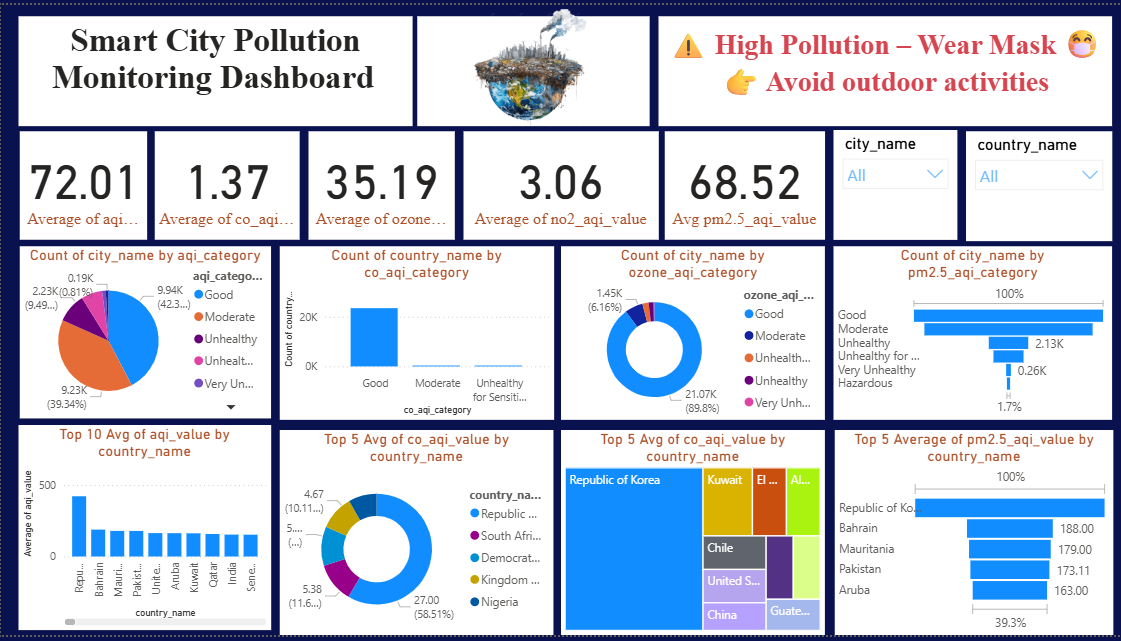

What the dashboard file says about the page in this screenshot:
{"tool":"powerbi","page":{"name":"Page 1","canvas":[1280,720],"ordinal":0},"visuals":[{"type":"card","fields":{"Values":["Avg(air_pollution_data.aqi_value)"]},"box":[21.4,144.3,145.7,124.3],"z":0},{"type":"slicer","fields":{"Values":["air_pollution_data.city_name"]},"box":[951.4,142.9,141.4,125.7],"z":1000},{"type":"clusteredColumnChart","fields":{"Y":["CountNonNull(air_pollution_data.country_name)"],"Category":["air_pollution_data.co_aqi_category"]},"box":[318.3,275,313.3,198.3],"z":2000},{"type":"textbox","box":[20,12.9,450,125.7],"z":3000},{"type":"pieChart","fields":{"Category":["air_pollution_data.aqi_category"],"Y":["CountNonNull(air_pollution_data.city_name)"]},"box":[21.4,275.7,287.1,197.1],"z":4000},{"type":"textbox","box":[751.4,12.9,528.6,125.7],"z":5000},{"type":"card","fields":{"Values":["Avg(air_pollution_data.co_aqi_value)"]},"box":[175.7,144.3,165.7,124.3],"z":6000},{"type":"card","fields":{"Values":["Avg(air_pollution_data.ozone_aqi_value)"]},"box":[351.4,144.3,167.1,124.3],"z":7000},{"type":"card","fields":{"Values":["Avg(air_pollution_data.no2_aqi_value)"]},"box":[528.6,144.3,222.9,124.3],"z":8000},{"type":"card","fields":{"Values":["Avg(air_pollution_data.pm2.5_aqi_value)"]},"box":[758.6,144.3,182.9,124.3],"z":9000},{"type":"donutChart","fields":{"Category":["air_pollution_data.ozone_aqi_category"],"Y":["CountNonNull(air_pollution_data.city_name)"]},"box":[640,275,301.7,198.3],"z":10000},{"type":"funnel","fields":{"Y":["CountNonNull(air_pollution_data.city_name)"],"Category":["air_pollution_data.pm2.5_aqi_category"]},"box":[951.7,275,318.3,198.3],"z":11000},{"type":"columnChart","title":"Top 10 Avg of aqi_value by country_name","fields":{"Category":["air_pollution_data.country_name"],"Y":["Avg(air_pollution_data.aqi_value)"]},"box":[20,480,288.6,234.3],"z":12000},{"type":"slicer","fields":{"Values":["air_pollution_data.country_name"]},"box":[1102.9,144.3,167.1,125.7],"z":13000},{"type":"donutChart","title":"Top 5 Avg of co_aqi_value by country_name","fields":{"Category":["air_pollution_data.country_name"],"Y":["Avg(air_pollution_data.co_aqi_value)"]},"box":[318.6,485.7,312.9,234.3],"z":14000},{"type":"treemap","title":"Top 5 Avg of co_aqi_value by country_name","fields":{"Group":["air_pollution_data.country_name"],"Values":["Avg(air_pollution_data.no2_aqi_value)"]},"box":[640,485.7,301.4,234.3],"z":15000},{"type":"funnel","title":"Top 5 Average of pm2.5_aqi_value by country_name","fields":{"Category":["air_pollution_data.country_name"],"Y":["Avg(air_pollution_data.pm2.5_aqi_value)"]},"box":[952.9,485.7,318.6,234.3],"z":16000},{"type":"textbox","box":[475.7,12.9,265.7,125.7],"z":17001},{"type":"image","box":[415.7,0,375.7,144.3],"z":17002}]}

Visuals, with their boxes in screenshot pixels (x1, y1, x2, y2), scaled from the page's 1280x720 canvas onto the 1121x641 screenshot:
card - Avg(air_pollution_data.aqi_value): {"left": 19, "top": 128, "right": 146, "bottom": 239}
slicer - air_pollution_data.city_name: {"left": 833, "top": 127, "right": 957, "bottom": 239}
clusteredColumnChart - CountNonNull(air_pollution_data.country_name) x air_pollution_data.co_aqi_category: {"left": 279, "top": 245, "right": 553, "bottom": 421}
textbox: {"left": 18, "top": 11, "right": 412, "bottom": 123}
pieChart - air_pollution_data.aqi_category x CountNonNull(air_pollution_data.city_name): {"left": 19, "top": 245, "right": 270, "bottom": 421}
textbox: {"left": 658, "top": 11, "right": 1120, "bottom": 123}
card - Avg(air_pollution_data.co_aqi_value): {"left": 154, "top": 128, "right": 299, "bottom": 239}
card - Avg(air_pollution_data.ozone_aqi_value): {"left": 308, "top": 128, "right": 454, "bottom": 239}
card - Avg(air_pollution_data.no2_aqi_value): {"left": 463, "top": 128, "right": 658, "bottom": 239}
card - Avg(air_pollution_data.pm2.5_aqi_value): {"left": 664, "top": 128, "right": 825, "bottom": 239}
donutChart - air_pollution_data.ozone_aqi_category x CountNonNull(air_pollution_data.city_name): {"left": 560, "top": 245, "right": 825, "bottom": 421}
funnel - CountNonNull(air_pollution_data.city_name) x air_pollution_data.pm2.5_aqi_category: {"left": 833, "top": 245, "right": 1112, "bottom": 421}
"Top 10 Avg of aqi_value by country_name" columnChart: {"left": 18, "top": 427, "right": 270, "bottom": 636}
slicer - air_pollution_data.country_name: {"left": 966, "top": 128, "right": 1112, "bottom": 240}
"Top 5 Avg of co_aqi_value by country_name" donutChart: {"left": 279, "top": 432, "right": 553, "bottom": 640}
"Top 5 Avg of co_aqi_value by country_name" treemap: {"left": 560, "top": 432, "right": 824, "bottom": 640}
"Top 5 Average of pm2.5_aqi_value by country_name" funnel: {"left": 835, "top": 432, "right": 1114, "bottom": 640}
textbox: {"left": 417, "top": 11, "right": 649, "bottom": 123}
image: {"left": 364, "top": 0, "right": 693, "bottom": 128}
